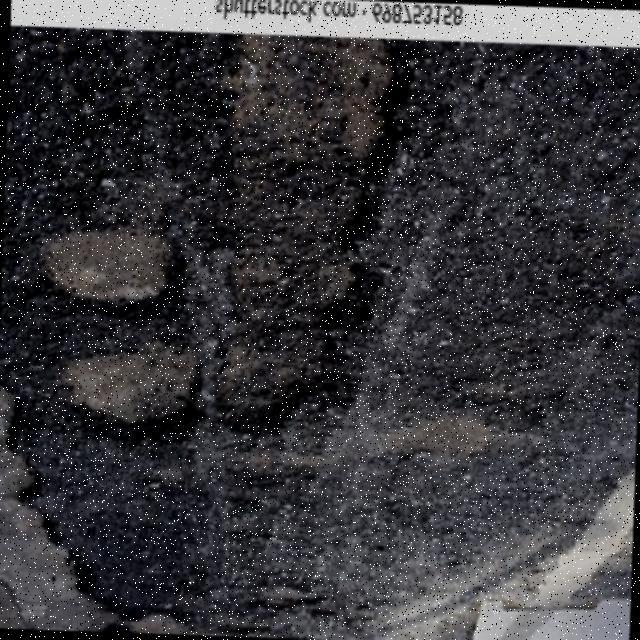Pothole: (226, 33, 403, 429), (41, 227, 183, 313), (62, 350, 199, 438)
